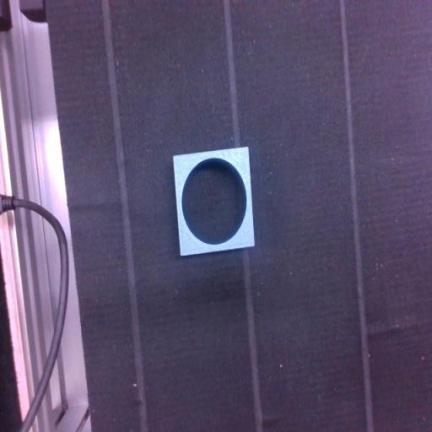square: (173, 147, 254, 255)
